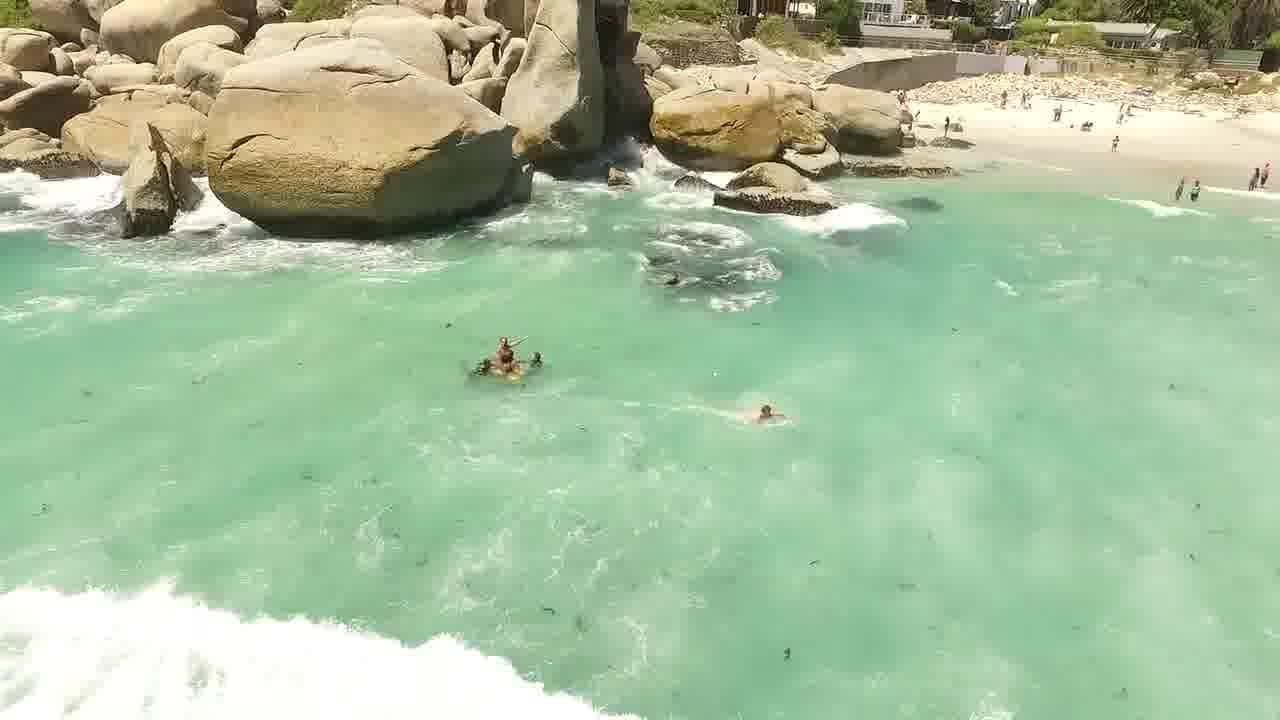human: (445, 323, 556, 389), (738, 383, 813, 450), (1171, 169, 1211, 211), (650, 263, 694, 293), (1241, 149, 1271, 190), (1035, 120, 1064, 157)
